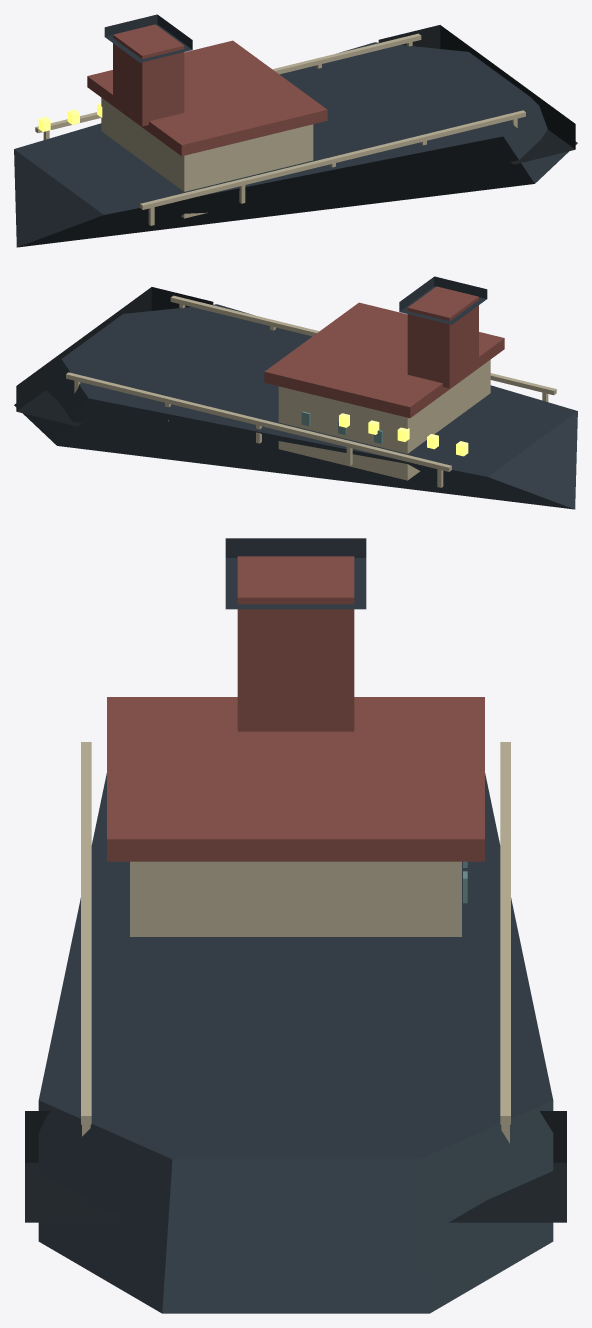
The model's file is tugboat_east_quay.glb.
3 renders of one model, top to bottom at view 1: azimuth 30°, elevation 25°; view 2: azimuth 150°, elevation 25°; view 3: azimuth 270°, elevation 25°, orthographic. The views are drawn at different scales.
Parts seen in each view (by area): view 1: Tugboat_heavy_hull.003, Tugboat_bridge_roof.003, Tugboat_bridge_cabin.003, Tugboat_funnel.003, Tugboat_bow_bumper.003, Tugboat_rail_side.007, Tugboat_rail_side.006, Tugboat_funnel_cap.003; view 2: Tugboat_heavy_hull.003, Tugboat_bridge_roof.003, Tugboat_bridge_cabin.003, Tugboat_funnel.003, Tugboat_bow_bumper.003, Tugboat_rail_side.006, Tugboat_rail_side.007, Tugboat_funnel_cap.003; view 3: Tugboat_heavy_hull.003, Tugboat_bridge_roof.003, Tugboat_bridge_cabin.003, Tugboat_funnel.003, Tugboat_bow_bumper.003, Tugboat_funnel_cap.003, Tugboat_rail_side.006, Tugboat_rail_side.007.
Part boxes in pixels (x1=…): Tugboat_heavy_hull.003: x1=14, y1=42, x2=577, y2=247; Tugboat_bridge_roof.003: x1=87, y1=40, x2=327, y2=156; Tugboat_bridge_cabin.003: x1=101, y1=98, x2=313, y2=218; Tugboat_funnel.003: x1=113, y1=24, x2=184, y2=126; Tugboat_bow_bumper.003: x1=378, y1=25, x2=575, y2=164; Tugboat_rail_side.007: x1=140, y1=110, x2=525, y2=209; Tugboat_rail_side.006: x1=35, y1=33, x2=421, y2=133; Tugboat_funnel_cap.003: x1=104, y1=14, x2=192, y2=62; Tugboat_heavy_hull.003: x1=14, y1=304, x2=577, y2=509; Tugboat_bridge_roof.003: x1=264, y1=302, x2=504, y2=418; Tugboat_bridge_cabin.003: x1=278, y1=360, x2=490, y2=480; Tugboat_funnel.003: x1=407, y1=286, x2=478, y2=388; Tugboat_bow_bumper.003: x1=16, y1=287, x2=213, y2=426; Tugboat_rail_side.006: x1=66, y1=372, x2=451, y2=471; Tugboat_rail_side.007: x1=170, y1=295, x2=556, y2=395; Tugboat_funnel_cap.003: x1=399, y1=276, x2=487, y2=324; Tugboat_heavy_hull.003: x1=38, y1=773, x2=553, y2=1313; Tugboat_bridge_roof.003: x1=107, y1=697, x2=484, y2=861; Tugboat_bridge_cabin.003: x1=130, y1=861, x2=461, y2=936; Tugboat_funnel.003: x1=237, y1=556, x2=354, y2=731; Tugboat_bow_bumper.003: x1=25, y1=1111, x2=566, y2=1222; Tugboat_funnel_cap.003: x1=225, y1=538, x2=366, y2=609; Tugboat_rail_side.006: x1=500, y1=742, x2=510, y2=1124; Tugboat_rail_side.007: x1=81, y1=742, x2=91, y2=1124.
Size of the model in its own units: 9 by 2.96 by 4.
